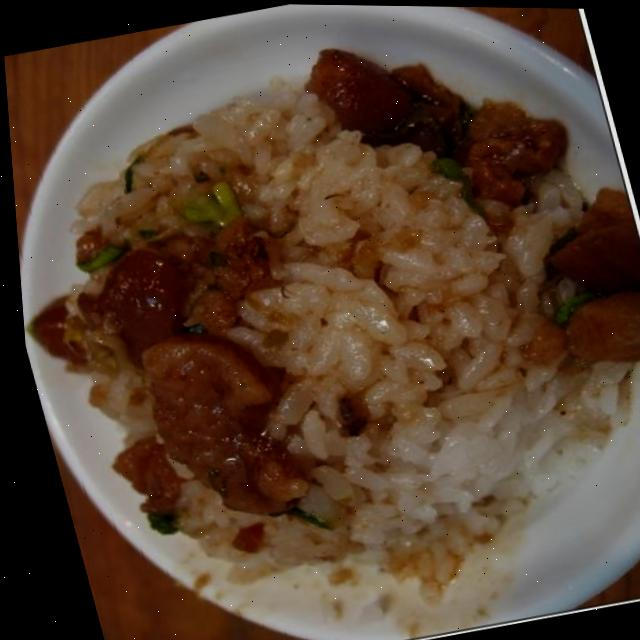猪肉菜式: (4, 5, 640, 627)
